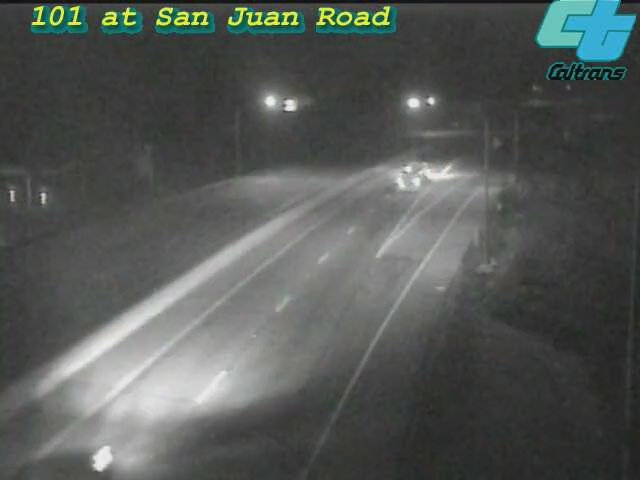vehicle: (7, 416, 117, 480), (374, 135, 454, 215)
